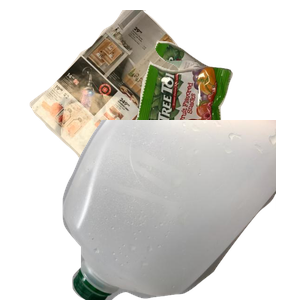glass: (98, 168, 251, 300)
paper: (27, 10, 230, 190)
plastic: (60, 120, 300, 300)
trash: (131, 38, 300, 182)
